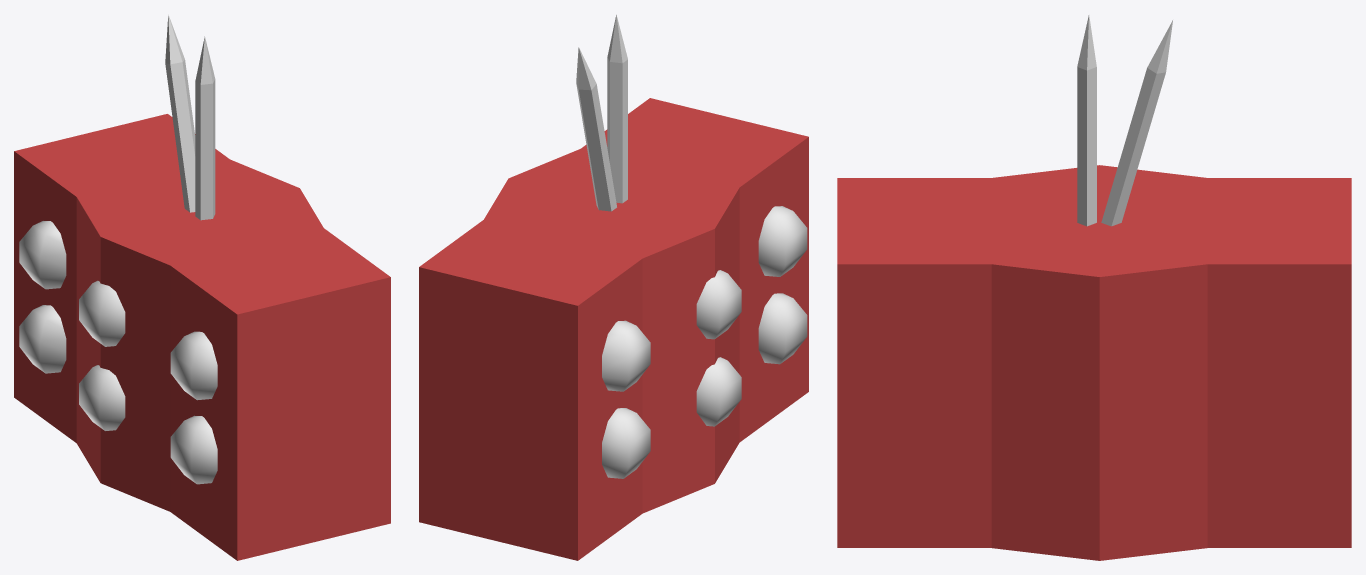
File: head.fbx
3 renders of one model, left to right at view 1: azimuth 30°, elevation 25°; view 2: azimuth 150°, elevation 25°; view 3: azimuth 270°, elevation 25°, orthographic. The views are drawn at different scales.
Parts seen in each view (by area): view 1: polySurface357; view 2: polySurface357; view 3: polySurface357.
Boxes of the visible parts, x1,y1,x2,y2 form: polySurface357: (14, 14, 390, 560); polySurface357: (419, 14, 808, 560); polySurface357: (837, 15, 1351, 560).
Size of the model in its own units: 0.6726 by 1.29 by 1.22.
